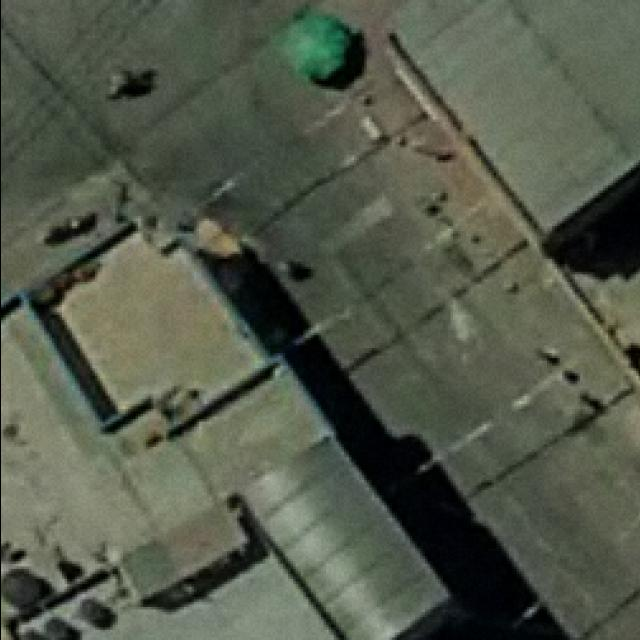vendedor_ambulante: (276, 7, 354, 86)
